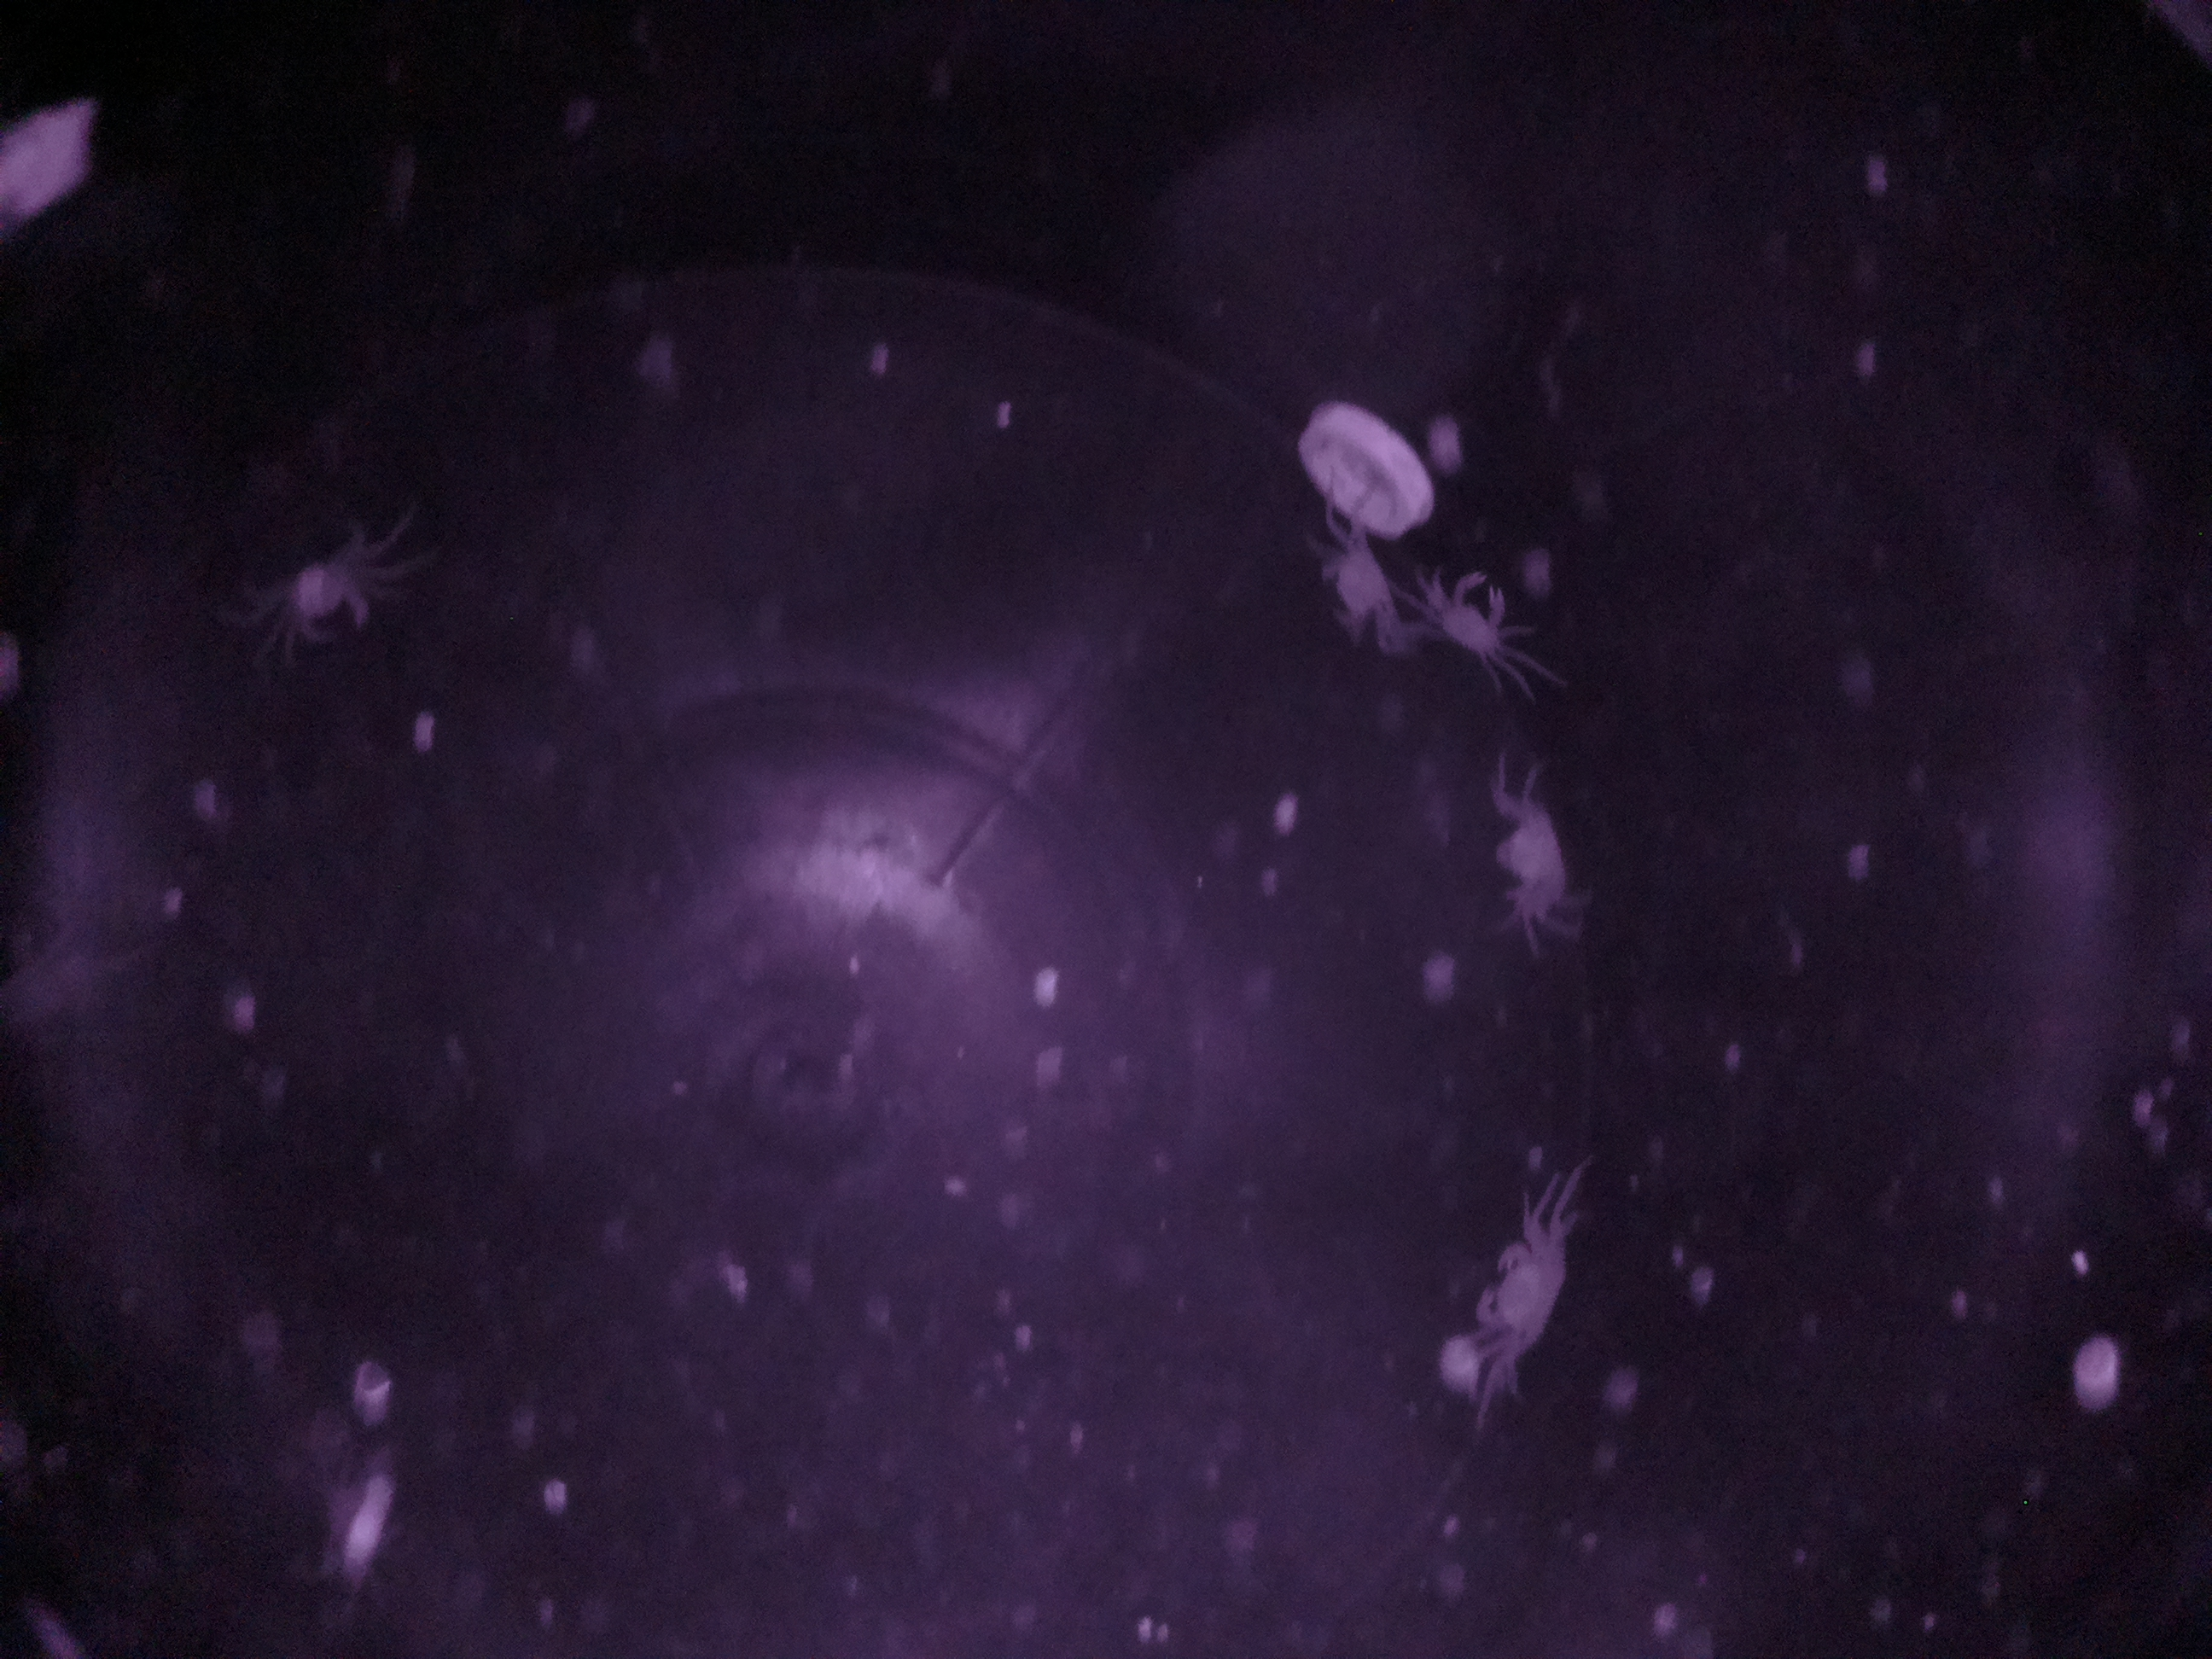Crab: (1446, 1218, 1575, 1384), (1308, 511, 1411, 662), (1426, 542, 1524, 685)
